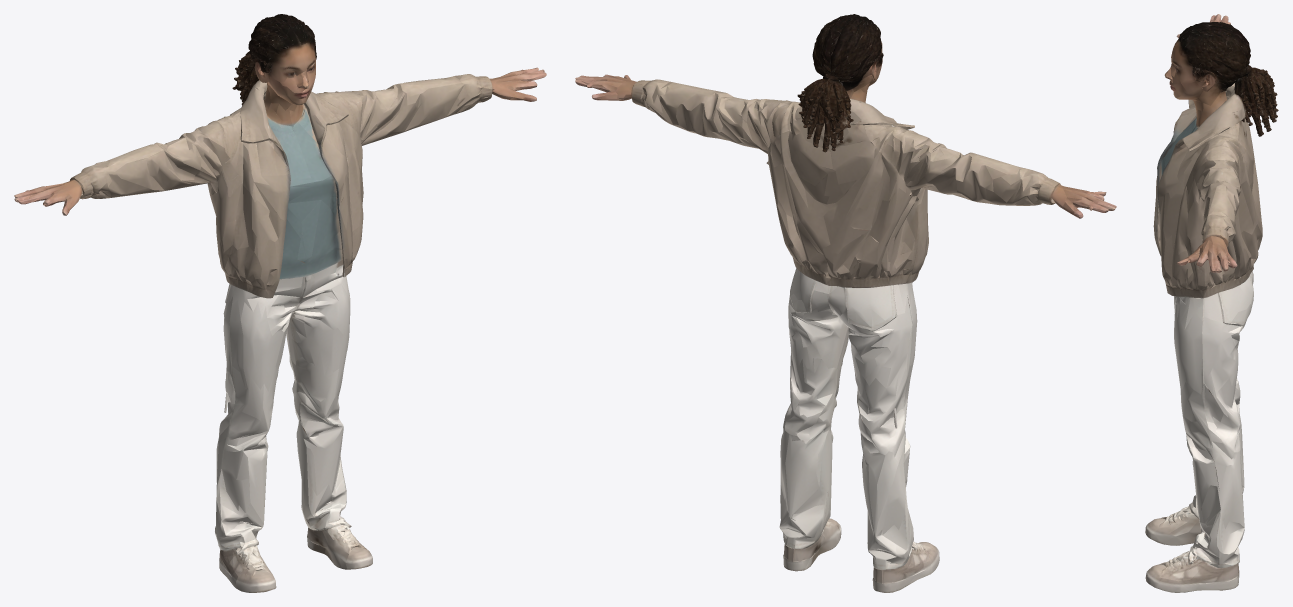
Rendered from character_n11_generated.glb.
3 renders of one model, left to right at view 1: azimuth 30°, elevation 25°; view 2: azimuth 150°, elevation 25°; view 3: azimuth 270°, elevation 25°, orthographic. The views are drawn at different scales.
Bounding box in the file's own units: 1.9 × 1.86 × 0.4171.
1 material, 1 textured.
